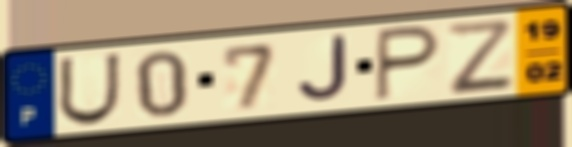0: (131, 49, 193, 120)
7: (219, 39, 279, 112)
J: (294, 33, 352, 106)
P: (371, 23, 444, 104)
U: (55, 51, 124, 128)
Z: (442, 17, 518, 97)
